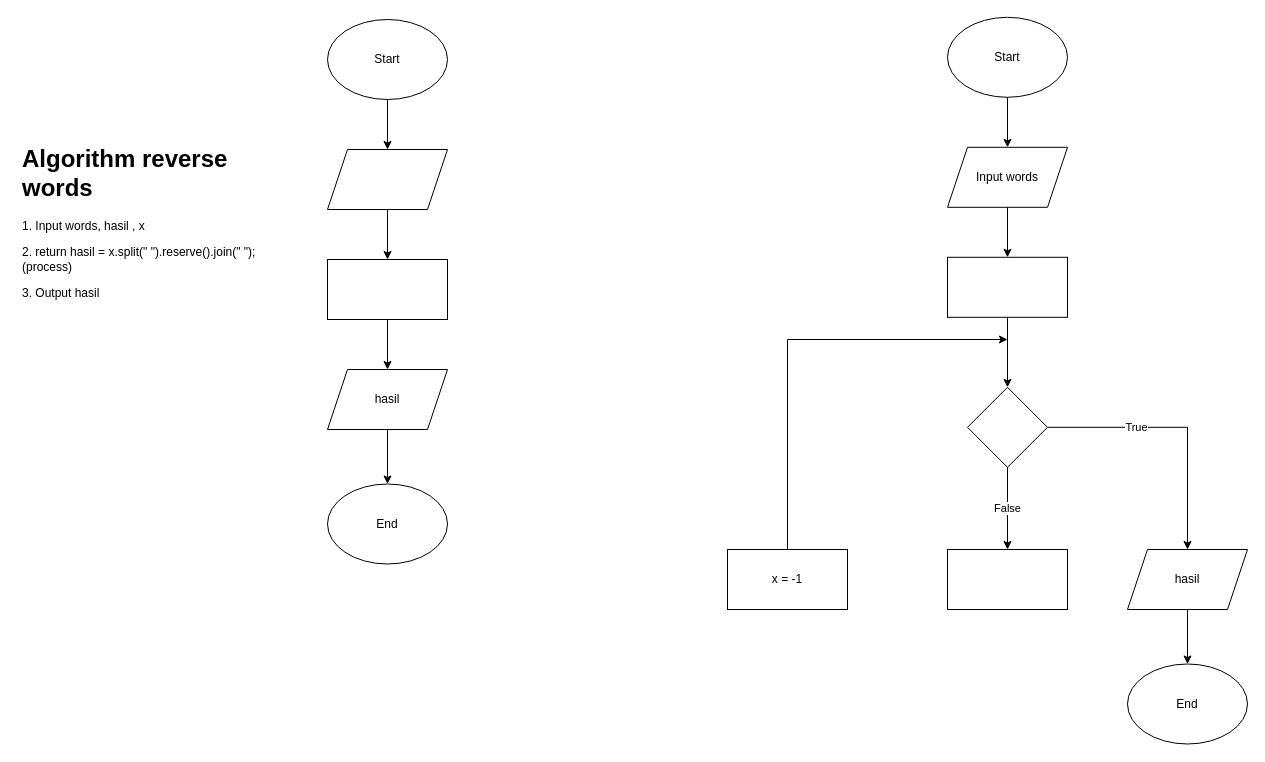
The diagram is 1265 pixels wide and 762 high, and some of its shapes have lost their labels. Here are the shapes that lost their labels. From the top down, the centre of each, then its label:
(x=387, y=179): Input Words, hasil x
(x=387, y=289): return hasil = x.split " ". reserve. join
(x=1007, y=286): hasil = ' ' x = word.length
(x=1007, y=426): x >= 0
